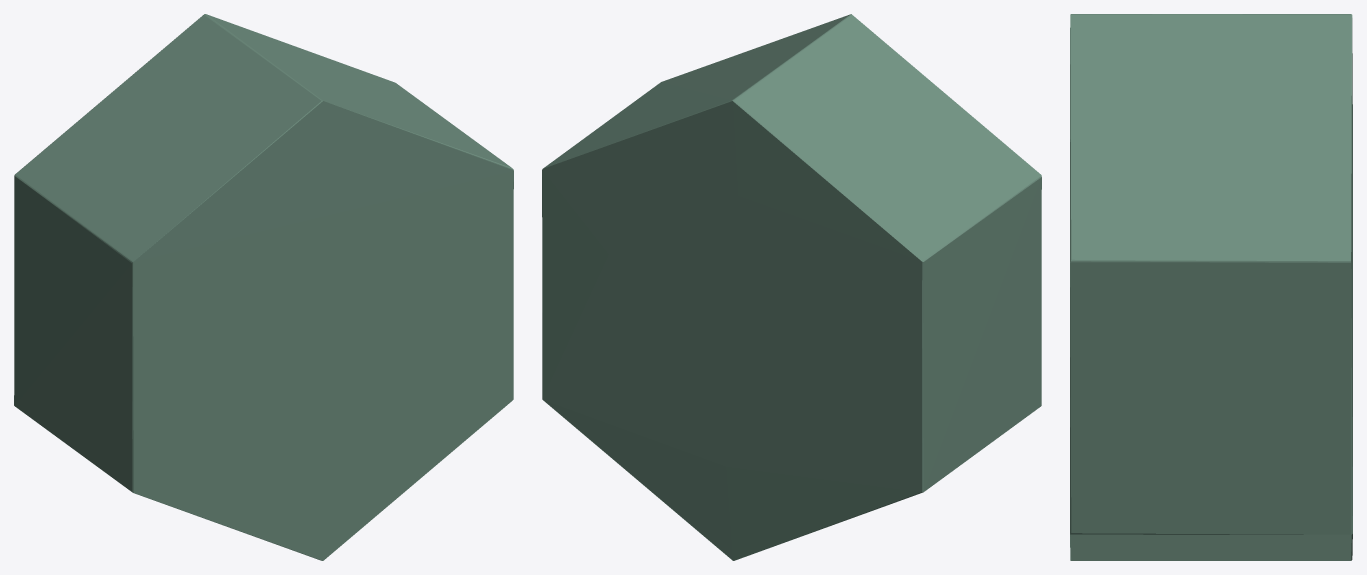
Rendered from factory_nut_m16_tight.glb.
3 views of the same model, side by side, from view 1: azimuth 30°, elevation 25°; view 2: azimuth 150°, elevation 25°; view 3: azimuth 270°, elevation 25° (orthographic). The views are drawn at different scales.
Visible parts, largest first — view 1: geometry_0; view 2: geometry_0; view 3: geometry_0.
Part boxes in pixels (x1,y1,x2,y2): geometry_0: (14,14,513,560); geometry_0: (542,14,1041,560); geometry_0: (1070,14,1352,560).
Bounding box in the file's own units: 0.4164 × 0.48 × 0.2251.
